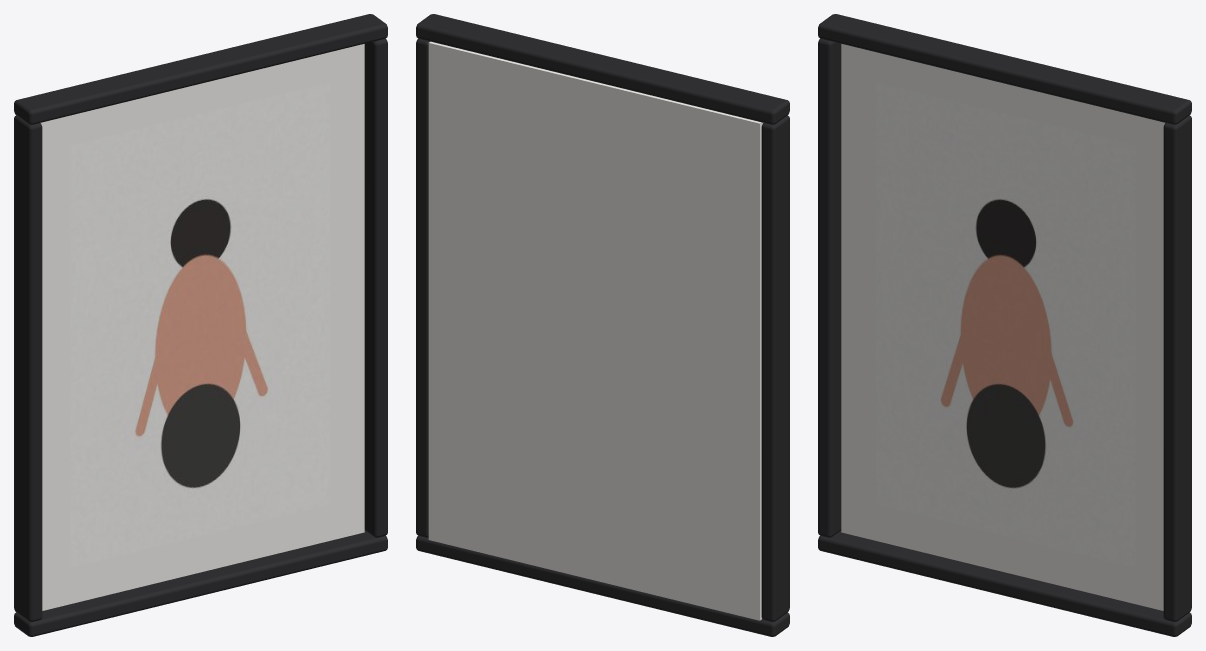
File: picture_frame_figure.glb
The picture shows the model from 3 angles, left to right: view 1: azimuth 30°, elevation 25°; view 2: azimuth 150°, elevation 25°; view 3: azimuth 330°, elevation 25°; orthographic projection.
Parts seen in each view (by area): view 1: picture_frame_figure_art, picture_frame_figure_mat, picture_frame_figure_frame; view 2: picture_frame_figure_mat, picture_frame_figure_frame; view 3: picture_frame_figure_art, picture_frame_figure_mat, picture_frame_figure_frame.
Part boxes in pixels (bbox=[...]): picture_frame_figure_art: bbox=[70, 82, 329, 567]; picture_frame_figure_mat: bbox=[40, 44, 364, 610]; picture_frame_figure_frame: bbox=[14, 14, 387, 636]; picture_frame_figure_mat: bbox=[428, 41, 763, 620]; picture_frame_figure_frame: bbox=[416, 14, 789, 636]; picture_frame_figure_art: bbox=[876, 82, 1135, 567]; picture_frame_figure_mat: bbox=[841, 44, 1165, 610]; picture_frame_figure_frame: bbox=[818, 14, 1191, 636].
Bounding box in the file's own units: 0.3 × 0.42 × 0.025.
Materials: 3 (1 with a texture image).
